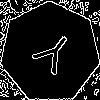Y: (25, 27, 78, 84)
